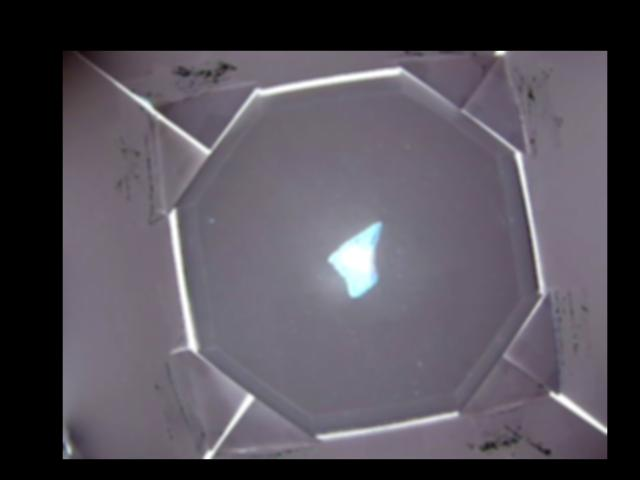Brisk: (328, 220, 384, 297)
